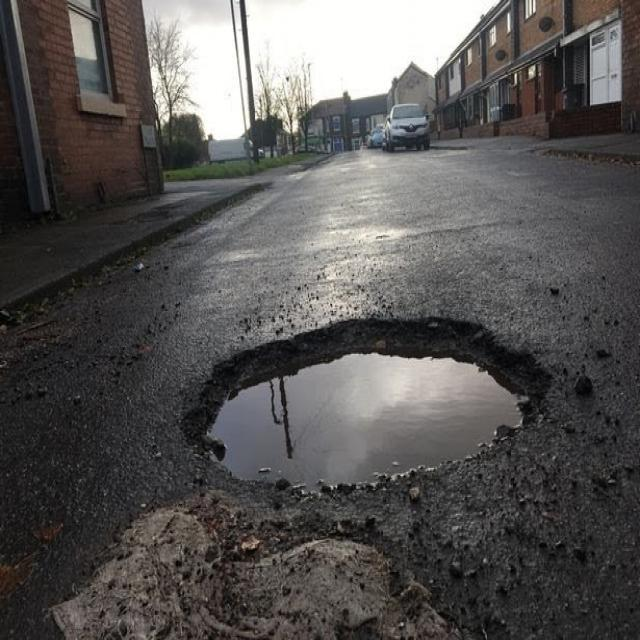pothole: (178, 306, 558, 494)
